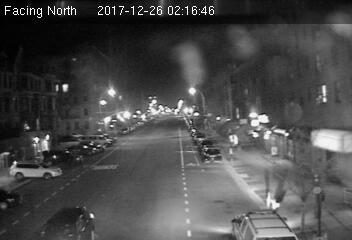car: (200, 147, 223, 164)
truck: (228, 209, 296, 240)
